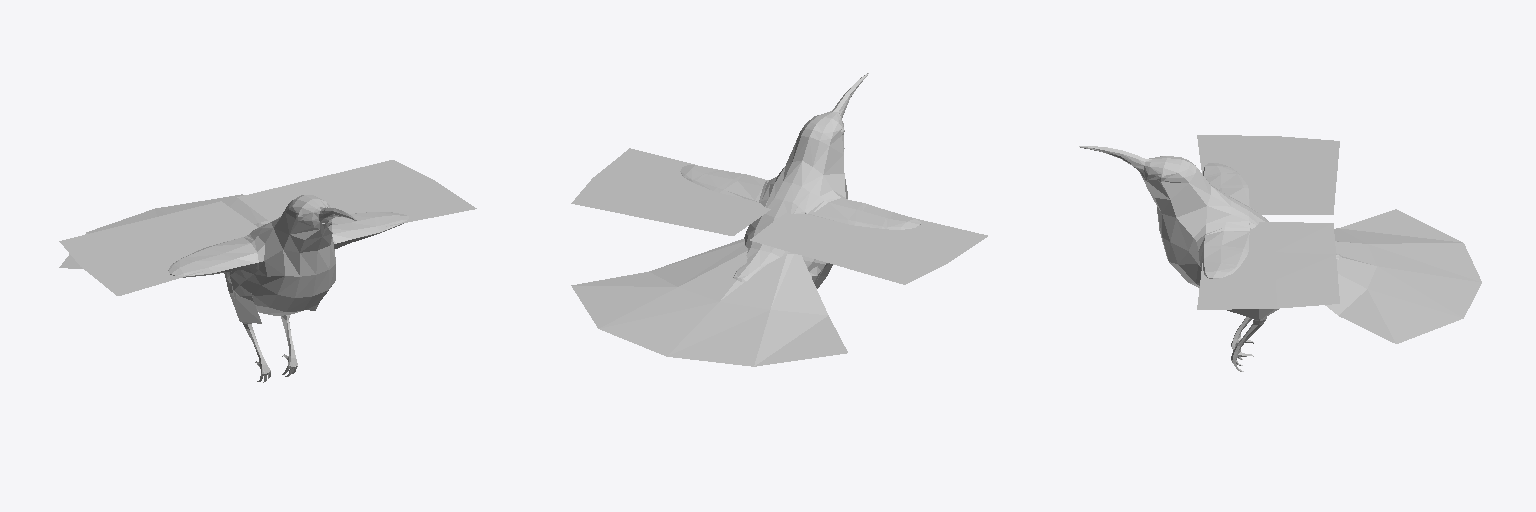
Rendered from MODEL_BirdLow_G4_1.obj.
The picture shows the model from 3 angles: view 1: azimuth 30°, elevation 25°; view 2: azimuth 150°, elevation 25°; view 3: azimuth 270°, elevation 25°; orthographic projection.
Visible parts, largest first — view 1: GEO_feathers, GEO_bird_low; view 2: GEO_feathers, GEO_bird_low; view 3: GEO_feathers, GEO_bird_low.
Part boxes in pixels (x1,y1,x2,y2): GEO_feathers: (59, 160, 476, 323); GEO_bird_low: (168, 195, 408, 382); GEO_feathers: (571, 148, 987, 366); GEO_bird_low: (680, 73, 920, 281); GEO_feathers: (1197, 135, 1481, 343); GEO_bird_low: (1079, 146, 1341, 371).
Size of the model in its own units: 4.35 by 2.54 by 4.24.